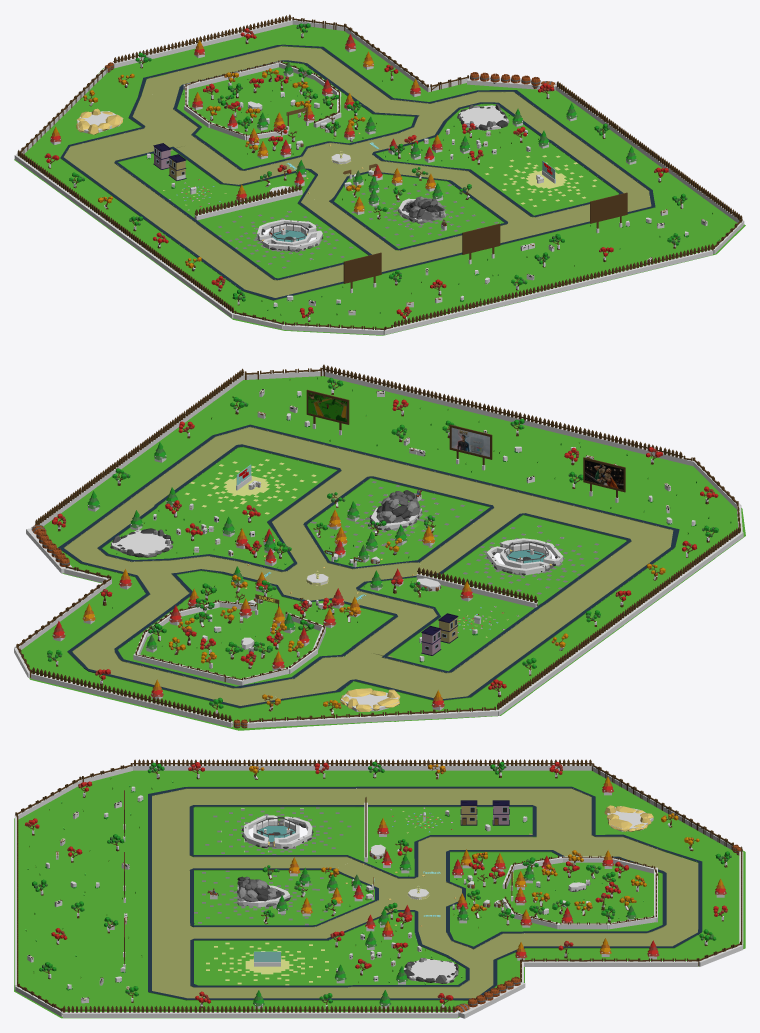
File: lowpoly_world.glb
3 views of the same model, one above another, from view 1: azimuth 30°, elevation 25°; view 2: azimuth 150°, elevation 25°; view 3: azimuth 270°, elevation 25° (orthographic). The views are drawn at different scales.
Visible parts, largest first — view 1: ground, walls, trees, fence1, me_board, conor_board, buildings, old_board, cave, pond3, fence3, fence2; view 2: ground, walls, trees, fence1, cave, buildings, me_board, old_board, conor_board, pond3, fence2, fence3; view 3: ground, walls, trees, fence1, buildings, cave, pond3, fence2, pond2.
Boxes of the visible parts, x1,y1,x2,y2 form: ground: [14, 24, 745, 335]; walls: [14, 19, 744, 335]; trees: [44, 23, 687, 321]; fence1: [17, 14, 742, 330]; me_board: [462, 223, 500, 259]; conor_board: [343, 252, 381, 288]; buildings: [153, 143, 555, 183]; old_board: [590, 192, 627, 228]; cave: [398, 196, 446, 223]; pond3: [76, 108, 123, 134]; fence3: [194, 184, 302, 218]; fence2: [185, 60, 339, 139]; ground: [21, 376, 745, 730]; walls: [14, 370, 743, 728]; trees: [47, 377, 718, 715]; fence1: [16, 364, 740, 728]; cave: [369, 490, 422, 530]; buildings: [236, 464, 458, 655]; me_board: [449, 424, 492, 465]; old_board: [306, 389, 349, 430]; conor_board: [583, 457, 625, 497]; pond3: [340, 688, 400, 711]; fence2: [135, 599, 325, 682]; fence3: [417, 567, 537, 605]; ground: [14, 770, 745, 1018]; walls: [14, 764, 743, 1018]; trees: [25, 761, 731, 1009]; fence1: [15, 759, 742, 1014]; buildings: [254, 800, 509, 961]; cave: [237, 876, 290, 907]; pond3: [604, 805, 653, 831]; fence2: [504, 855, 658, 924]; pond2: [404, 957, 458, 983].
Size of the model in its own units: 188 by 13.15 by 232.
63 materials, 5 textured.
